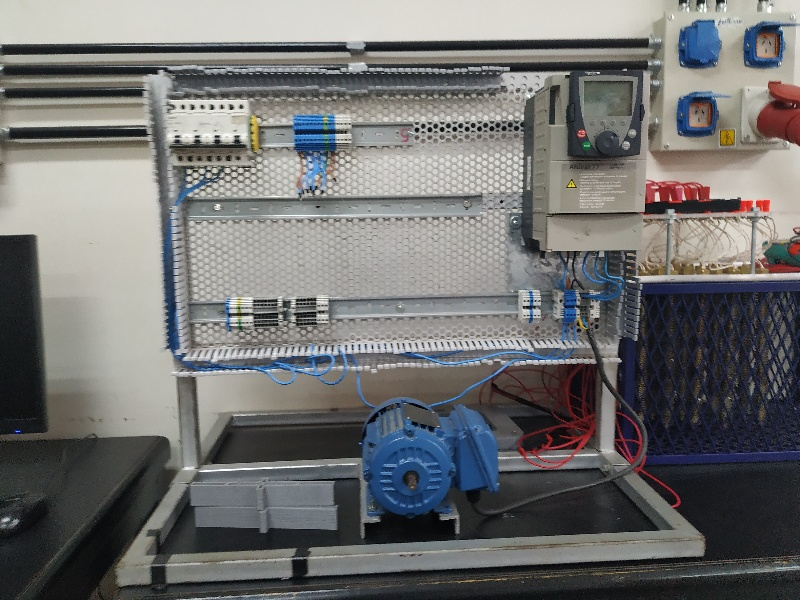Tablero 0: (158, 60, 654, 356)
